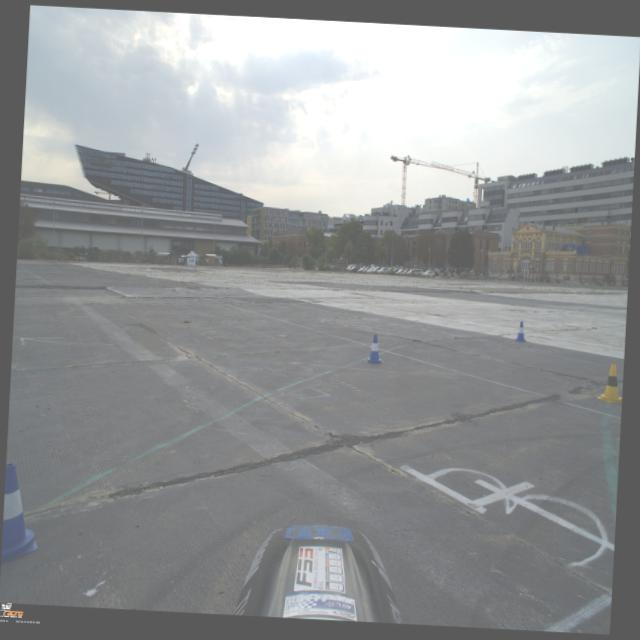blue_cone: (2, 462, 42, 566), (365, 334, 385, 364), (512, 320, 528, 342)
yellow_cone: (596, 364, 624, 404)
